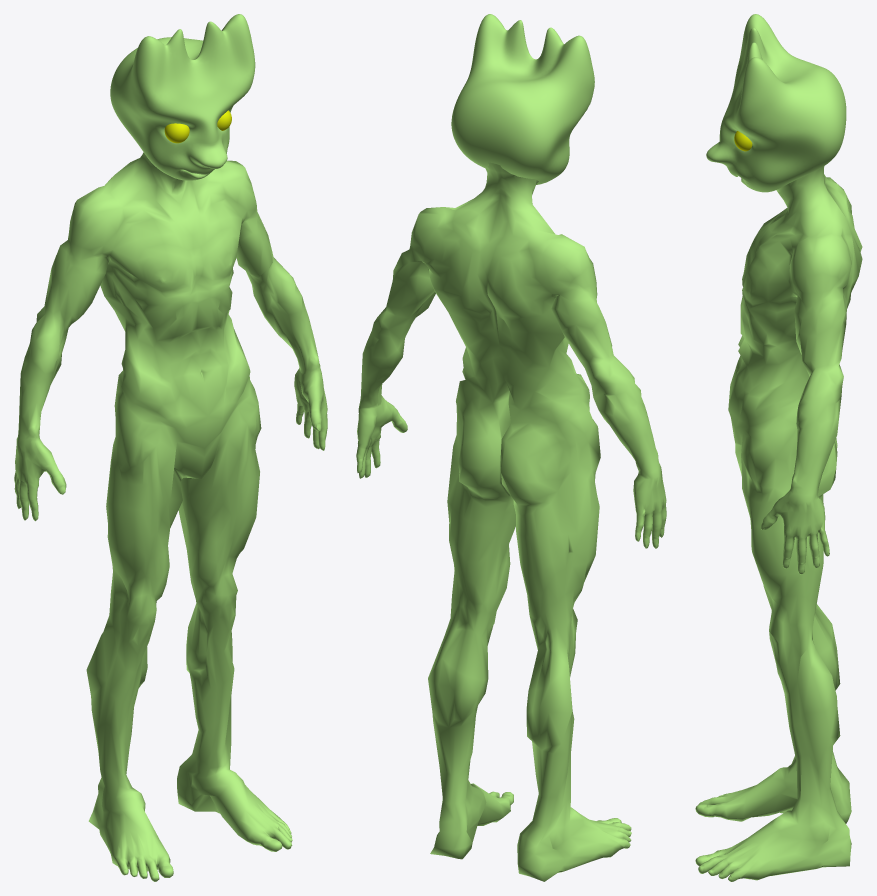
File: alien.glb
The picture shows the model from 3 angles, left to right: view 1: azimuth 30°, elevation 25°; view 2: azimuth 150°, elevation 25°; view 3: azimuth 270°, elevation 25°; orthographic projection.
Parts seen in each view (by area): view 1: cm_reom, LP.001; view 2: cm_reom, LP.001; view 3: cm_reom, LP.001.
Boxes of the visible parts, x1,y1,x2,y2 form: cm_reom: (14,152,327,881); LP.001: (110,14,255,180); cm_reom: (356,162,666,881); LP.001: (451,14,594,184); cm_reom: (695,166,862,881); LP.001: (706,14,846,192).
Size of the model in its own units: 0.7509 by 1.95 by 0.365.
